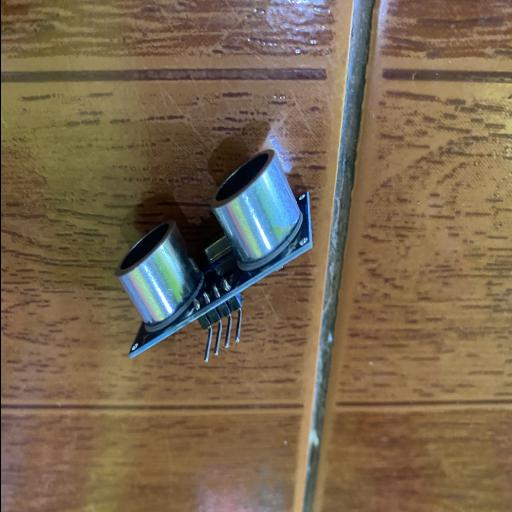Ultrasonic Sensor: (114, 148, 314, 362)
